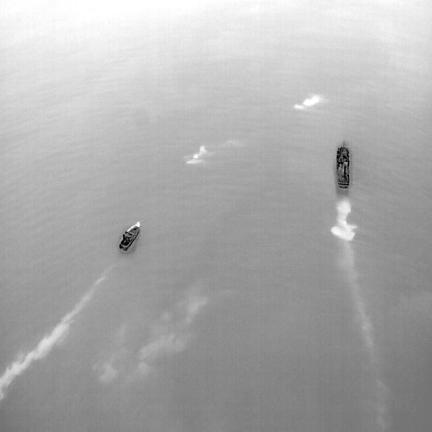flukeprints: (187, 146, 207, 163), (303, 94, 321, 106), (294, 104, 304, 110)
